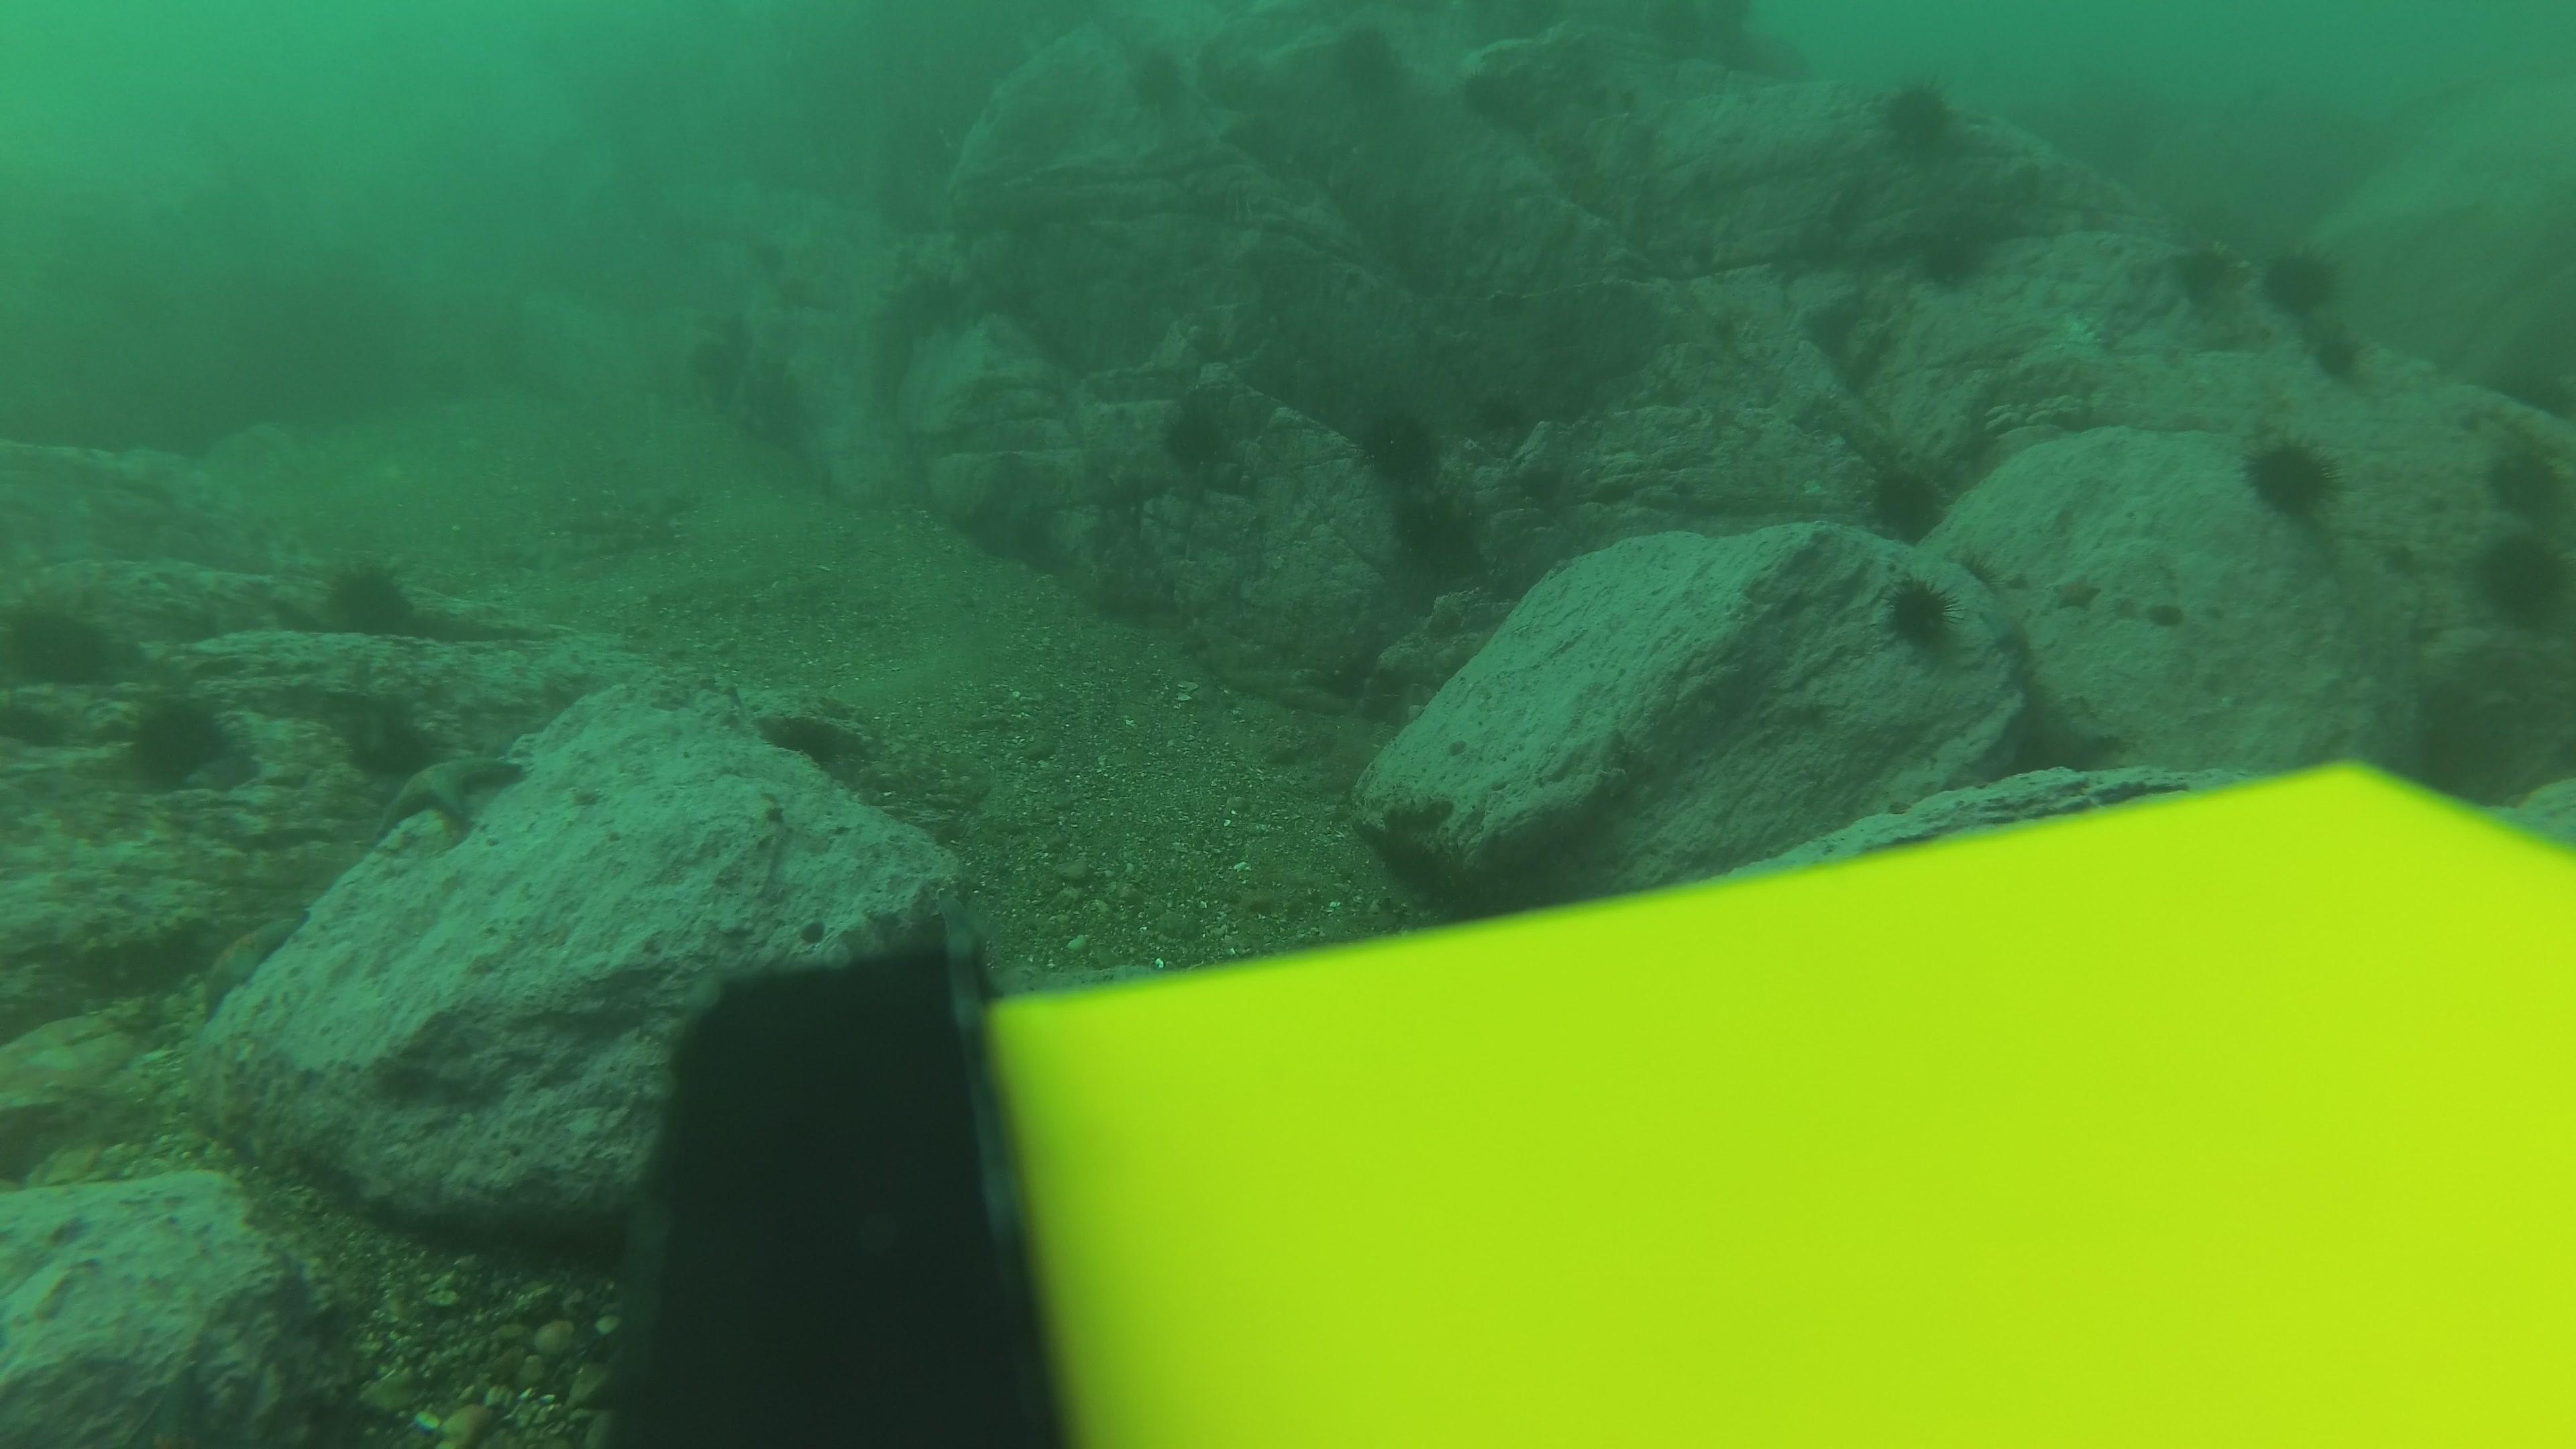echinus: (115, 686, 241, 794), (2, 587, 124, 695), (2468, 527, 2571, 630), (2238, 430, 2342, 522), (318, 554, 426, 642), (1870, 73, 1971, 165), (1389, 492, 1488, 584), (1348, 400, 1445, 492), (1874, 571, 1969, 662), (1856, 456, 1953, 545), (2479, 433, 2571, 525), (755, 702, 870, 773), (1155, 395, 1244, 479), (2258, 239, 2346, 318), (1325, 21, 1408, 103), (1911, 218, 1994, 294), (2166, 235, 2243, 313), (2307, 327, 2367, 386)
starfish: (366, 741, 533, 842), (184, 902, 313, 1017), (2049, 568, 2105, 616)
